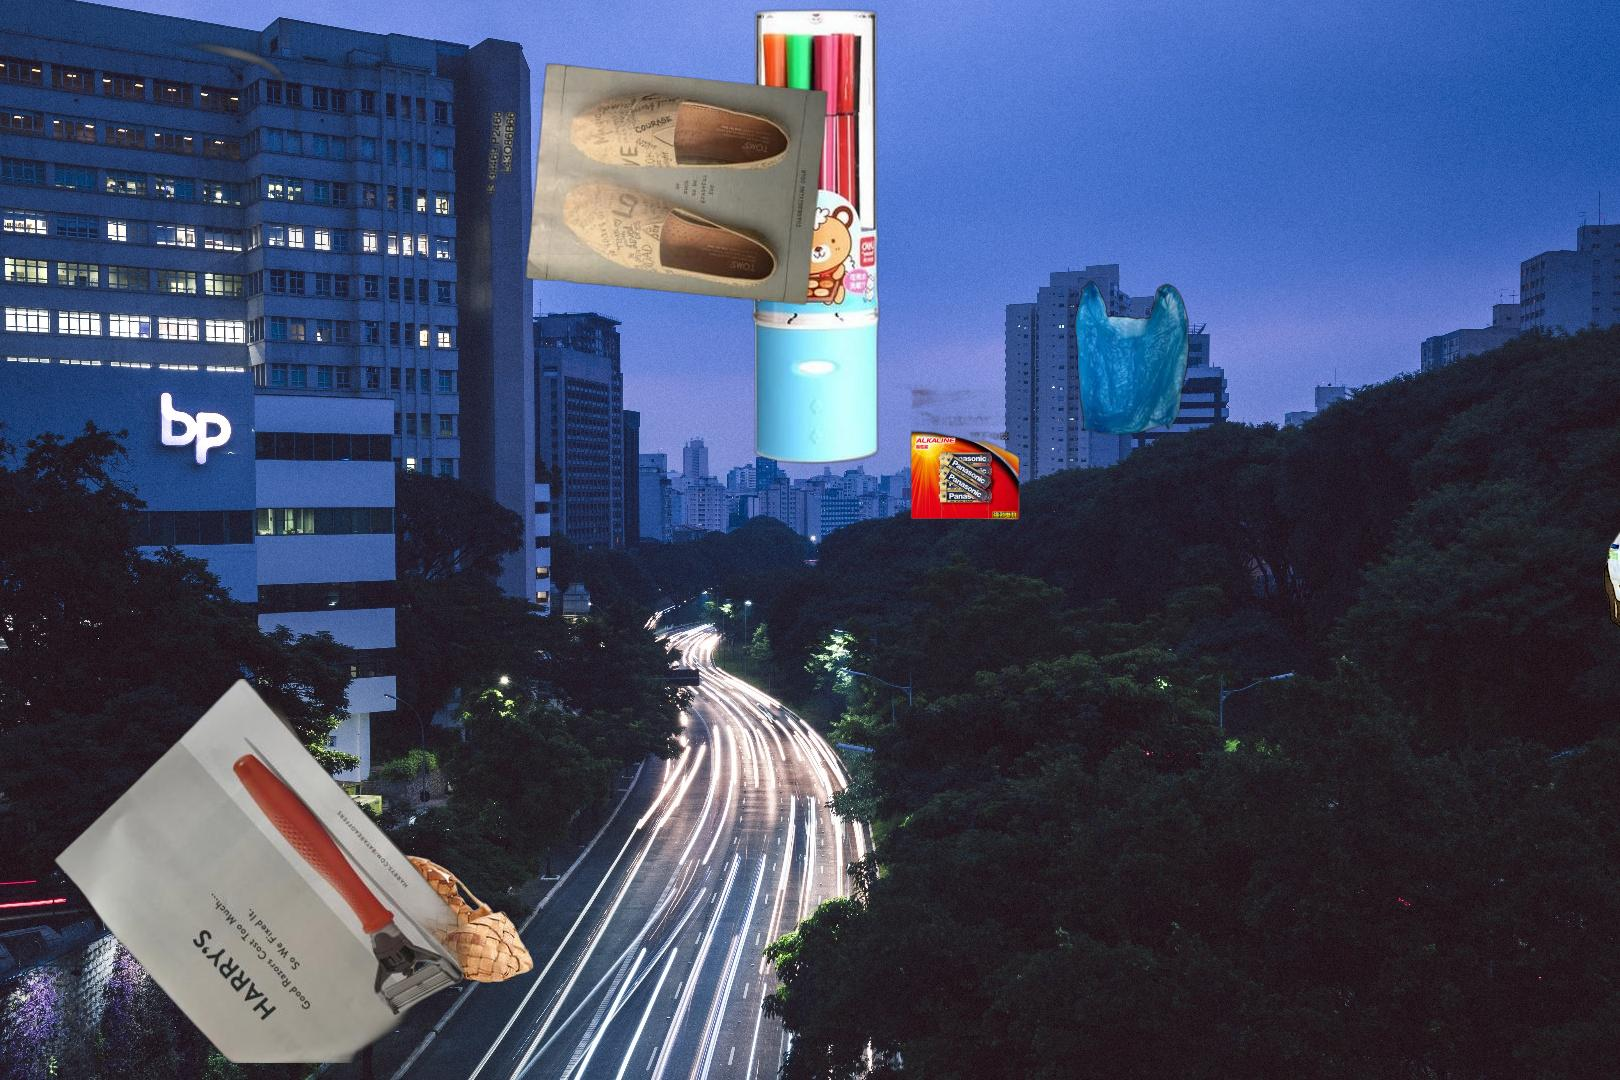battery: (886, 376, 1045, 533)
paper: (49, 679, 545, 1063), (124, 23, 636, 256), (522, 61, 830, 306)
penholder: (749, 6, 884, 466)
plastic-bag: (1072, 278, 1192, 438)
plastic-bottles: (1598, 522, 1620, 638)
shoes: (336, 852, 536, 986)
